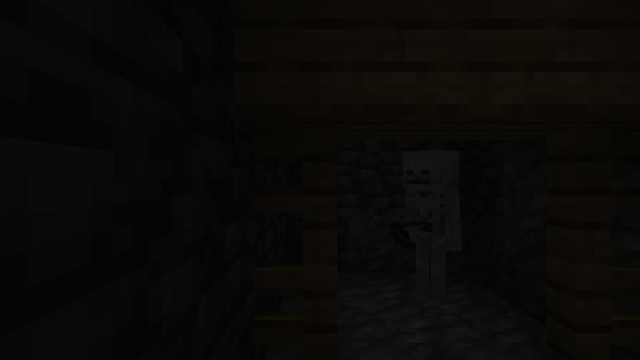squelettes: (401, 150, 464, 309)
